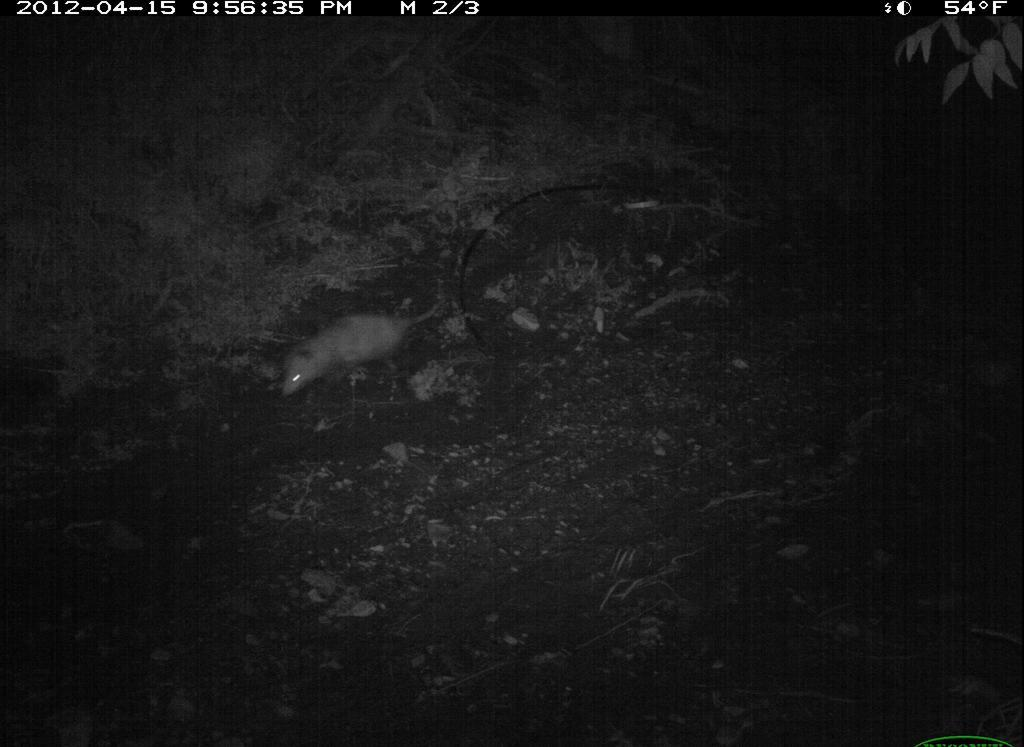opossum: (272, 299, 452, 402)
